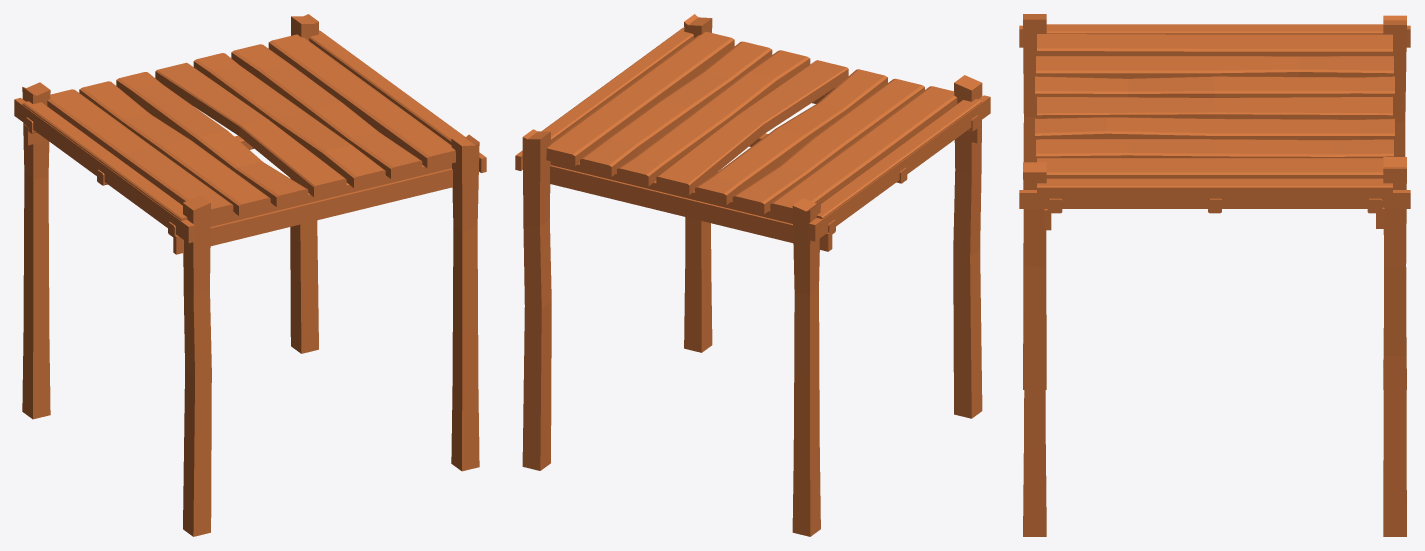
Rendered from WoodBase2.fbx.
The picture shows the model from 3 angles, left to right: view 1: azimuth 30°, elevation 25°; view 2: azimuth 150°, elevation 25°; view 3: azimuth 270°, elevation 25°; orthographic projection. The views are drawn at different scales.
Visible parts, largest first — view 1: WoodBase2; view 2: WoodBase2; view 3: WoodBase2.
Part boxes in pixels (<box>): WoodBase2: <box>14,14,486,536</box>; WoodBase2: <box>515,14,990,536</box>; WoodBase2: <box>1019,14,1410,536</box>.
Size of the model in its own units: 200 by 209 by 200.
